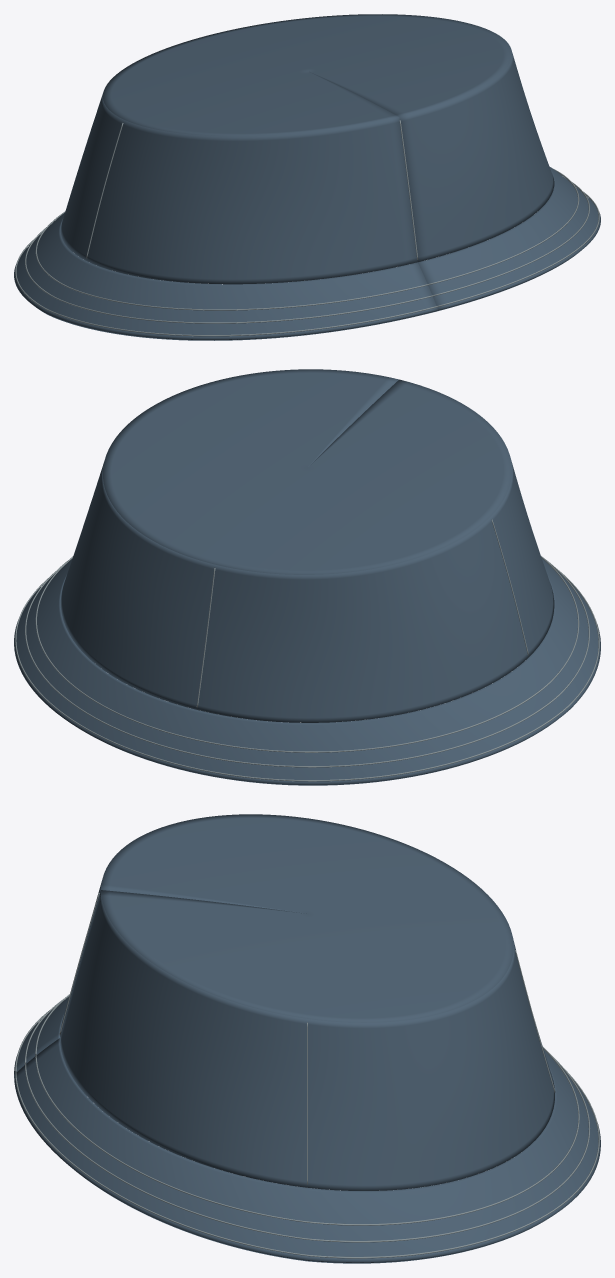
File: Masculine-middle-part-bucket251-headgear.glb
3 renders of one model, top to bottom at view 1: azimuth 30°, elevation 25°; view 2: azimuth 150°, elevation 25°; view 3: azimuth 270°, elevation 25°, orthographic. The views are drawn at different scales.
Parts seen in each view (by area): view 1: 226 headgear / Headwear / bucket cotton251.001, 226 headgear / Headwear / bucket stitching251.001; view 2: 226 headgear / Headwear / bucket cotton251.001, 226 headgear / Headwear / bucket stitching251.001; view 3: 226 headgear / Headwear / bucket cotton251.001, 226 headgear / Headwear / bucket stitching251.001.
Part boxes in pixels (box(x1,y1,x2,y2)): 226 headgear / Headwear / bucket cotton251.001: box(14, 14, 600, 340); 226 headgear / Headwear / bucket stitching251.001: box(15, 120, 599, 336); 226 headgear / Headwear / bucket cotton251.001: box(14, 369, 600, 785); 226 headgear / Headwear / bucket stitching251.001: box(15, 519, 599, 781); 226 headgear / Headwear / bucket cotton251.001: box(14, 814, 600, 1263); 226 headgear / Headwear / bucket stitching251.001: box(15, 892, 599, 1258).
Bounding box in the file's own units: 1.19 × 0.4942 × 1.02.
